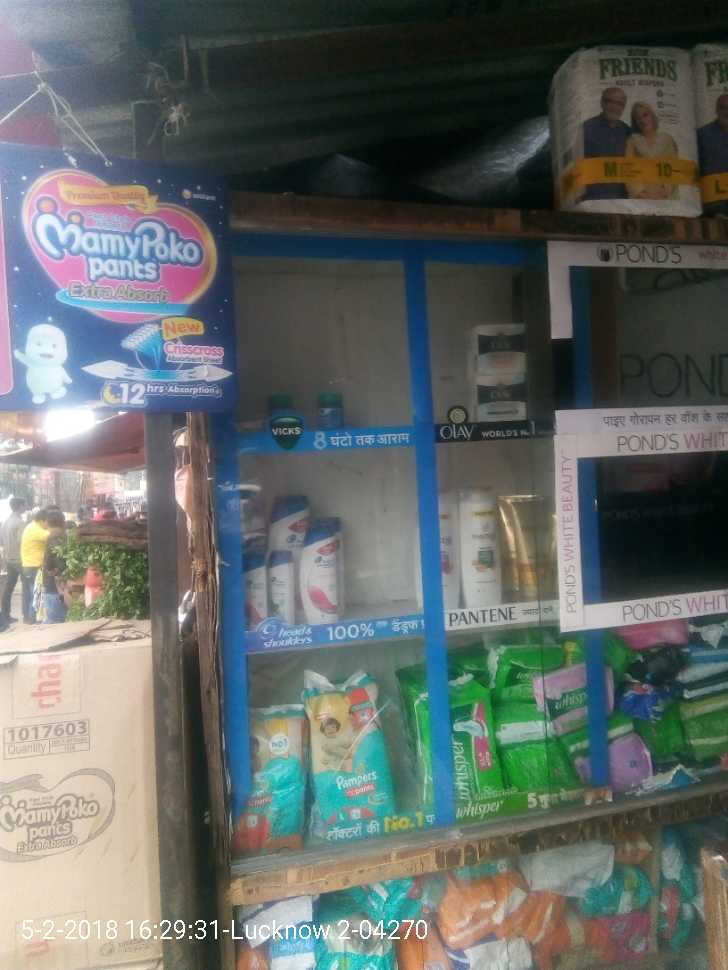beauty: (297, 522, 350, 628), (454, 486, 500, 608), (472, 369, 535, 421), (470, 318, 536, 366), (263, 550, 299, 622)
pharmacy: (302, 676, 400, 832), (245, 707, 315, 833)
